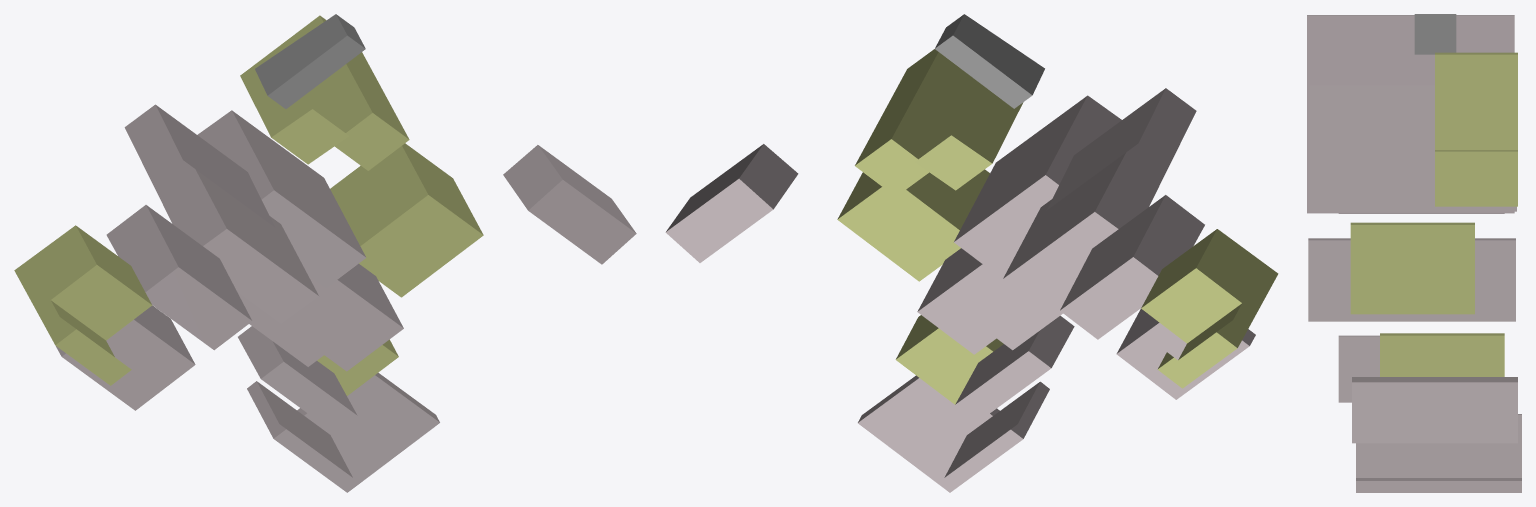
3 renders of one model, left to right at view 1: azimuth 30°, elevation 25°; view 2: azimuth 150°, elevation 25°; view 3: azimuth 270°, elevation 25°, orthographic. The views are drawn at different scales.
Visible parts, largest first — view 1: 0_1_1_3_2_2_3_0_1; view 2: 0_1_1_3_2_2_3_0_1; view 3: 0_1_1_3_2_2_3_0_1.
Boxes of the visible parts, x1,y1,x2,y2 form: 0_1_1_3_2_2_3_0_1: (14,14,636,492); 0_1_1_3_2_2_3_0_1: (665,14,1278,492); 0_1_1_3_2_2_3_0_1: (1307,14,1521,492).
Bounding box in the file's own units: 51.99 × 39.26 × 15.53.
